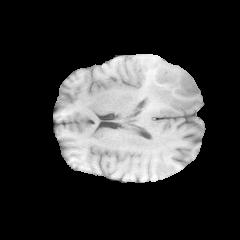glioma: (131, 62, 199, 112)
